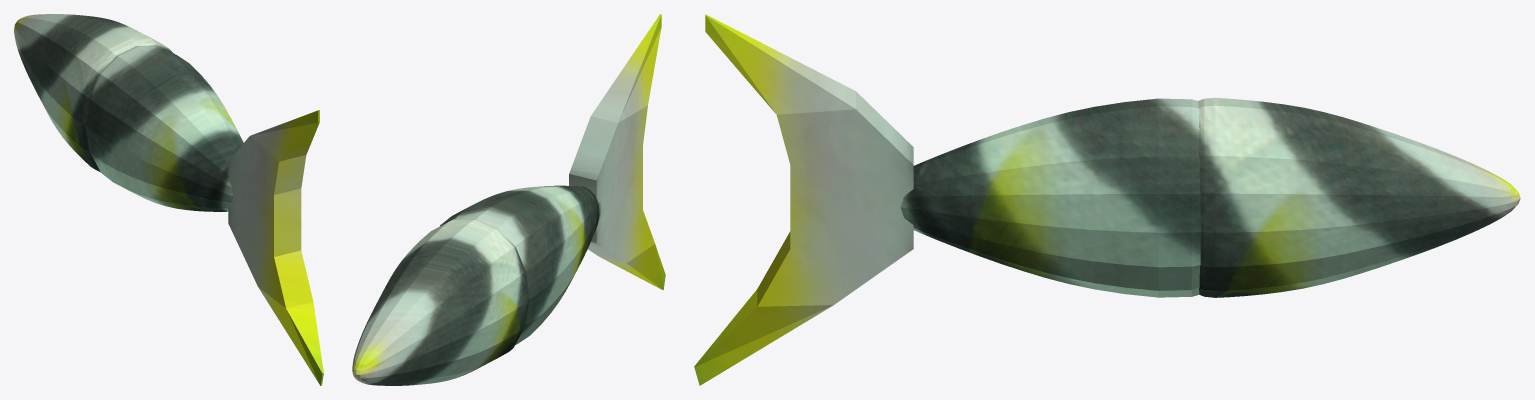
Rendered from Fish2Full.dae.
3 renders of one model, left to right at view 1: azimuth 30°, elevation 25°; view 2: azimuth 150°, elevation 25°; view 3: azimuth 270°, elevation 25°, orthographic. The views are drawn at different scales.
Visible parts, largest first — view 1: Cube, Cube_002, Cube_001; view 2: Cube_001, Cube_002, Cube; view 3: Cube, Cube_001, Cube_002.
Boxes of the visible parts, bbox=[...] form: Cube: bbox=[85, 45, 243, 211]; Cube_002: bbox=[228, 110, 323, 385]; Cube_001: bbox=[14, 14, 172, 172]; Cube_001: bbox=[352, 219, 529, 385]; Cube_002: bbox=[569, 14, 665, 290]; Cube: bbox=[439, 185, 601, 345]; Cube: bbox=[900, 98, 1200, 297]; Cube_001: bbox=[1198, 97, 1520, 297]; Cube_002: bbox=[694, 14, 913, 385].
Bounding box in the file's own units: 6.84 × 34.14 × 16.91.
Materials: 3 (3 with a texture image).
